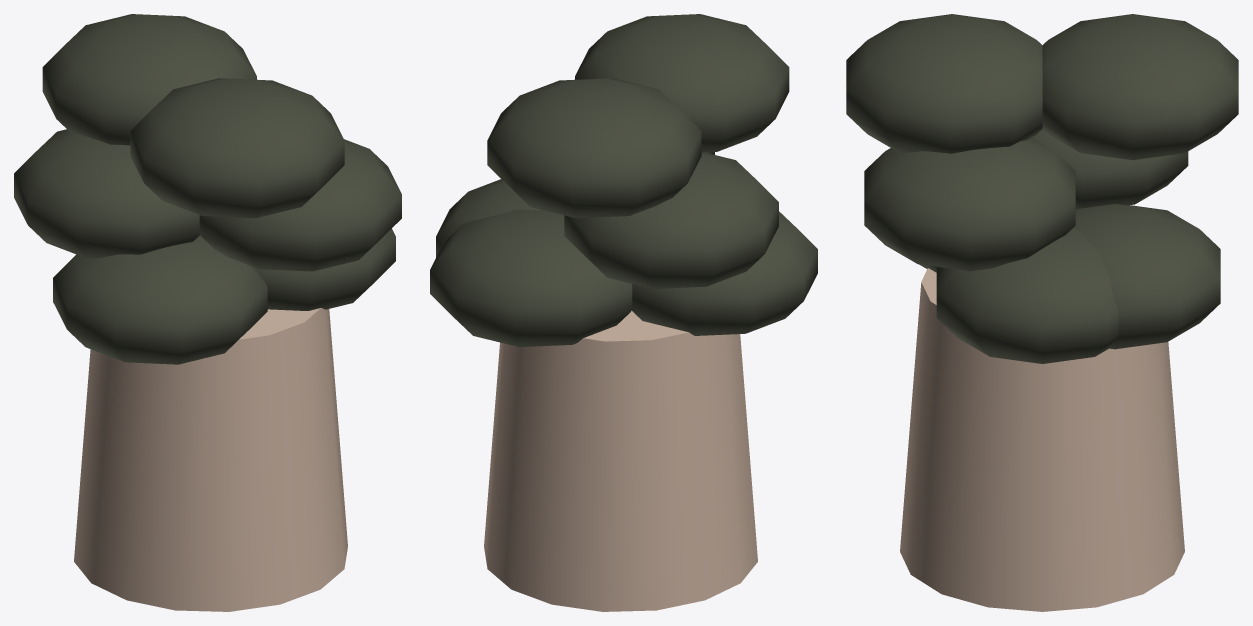
Rendered from flowers-desk.glb.
3 views of the same model, side by side, from view 1: azimuth 30°, elevation 25°; view 2: azimuth 150°, elevation 25°; view 3: azimuth 270°, elevation 25° (orthographic). The views are drawn at different scales.
Parts seen in each view (by area): view 1: REF-L02-R01-flowers-desk-part-1, REF-L02-R01-flowers-desk-part-4, REF-L02-R01-flowers-desk-part-5, REF-L02-R01-flowers-desk-part-7, REF-L02-R01-flowers-desk-part-6, REF-L02-R01-flowers-desk-part-3, REF-L02-R01-flowers-desk-part-2; view 2: REF-L02-R01-flowers-desk-part-1, REF-L02-R01-flowers-desk-part-7, REF-L02-R01-flowers-desk-part-8, REF-L02-R01-flowers-desk-part-6, REF-L02-R01-flowers-desk-part-4, REF-L02-R01-flowers-desk-part-5, REF-L02-R01-flowers-desk-part-2; view 3: REF-L02-R01-flowers-desk-part-1, REF-L02-R01-flowers-desk-part-7, REF-L02-R01-flowers-desk-part-4, REF-L02-R01-flowers-desk-part-3, REF-L02-R01-flowers-desk-part-2, REF-L02-R01-flowers-desk-part-8, REF-L02-R01-flowers-desk-part-6.
Part boxes in pixels (x1,y1,x2,y2): REF-L02-R01-flowers-desk-part-1: (74, 308, 347, 611); REF-L02-R01-flowers-desk-part-4: (130, 78, 344, 218); REF-L02-R01-flowers-desk-part-5: (53, 235, 267, 364); REF-L02-R01-flowers-desk-part-7: (42, 14, 256, 145); REF-L02-R01-flowers-desk-part-6: (14, 129, 200, 258); REF-L02-R01-flowers-desk-part-3: (199, 139, 401, 271); REF-L02-R01-flowers-desk-part-2: (256, 228, 395, 310); REF-L02-R01-flowers-desk-part-1: (484, 310, 757, 611); REF-L02-R01-flowers-desk-part-7: (487, 78, 701, 218); REF-L02-R01-flowers-desk-part-8: (430, 209, 632, 347); REF-L02-R01-flowers-desk-part-6: (564, 152, 778, 288); REF-L02-R01-flowers-desk-part-4: (575, 14, 789, 152); REF-L02-R01-flowers-desk-part-5: (631, 211, 817, 335); REF-L02-R01-flowers-desk-part-2: (436, 179, 541, 257); REF-L02-R01-flowers-desk-part-1: (900, 268, 1184, 611); REF-L02-R01-flowers-desk-part-7: (1042, 14, 1238, 160); REF-L02-R01-flowers-desk-part-4: (846, 14, 1042, 153); REF-L02-R01-flowers-desk-part-3: (864, 137, 1075, 271); REF-L02-R01-flowers-desk-part-2: (936, 227, 1118, 363); REF-L02-R01-flowers-desk-part-8: (1074, 204, 1220, 349); REF-L02-R01-flowers-desk-part-6: (1031, 129, 1188, 209).
Size of the model in its own units: 0.0783 by 0.1111 by 0.077.
